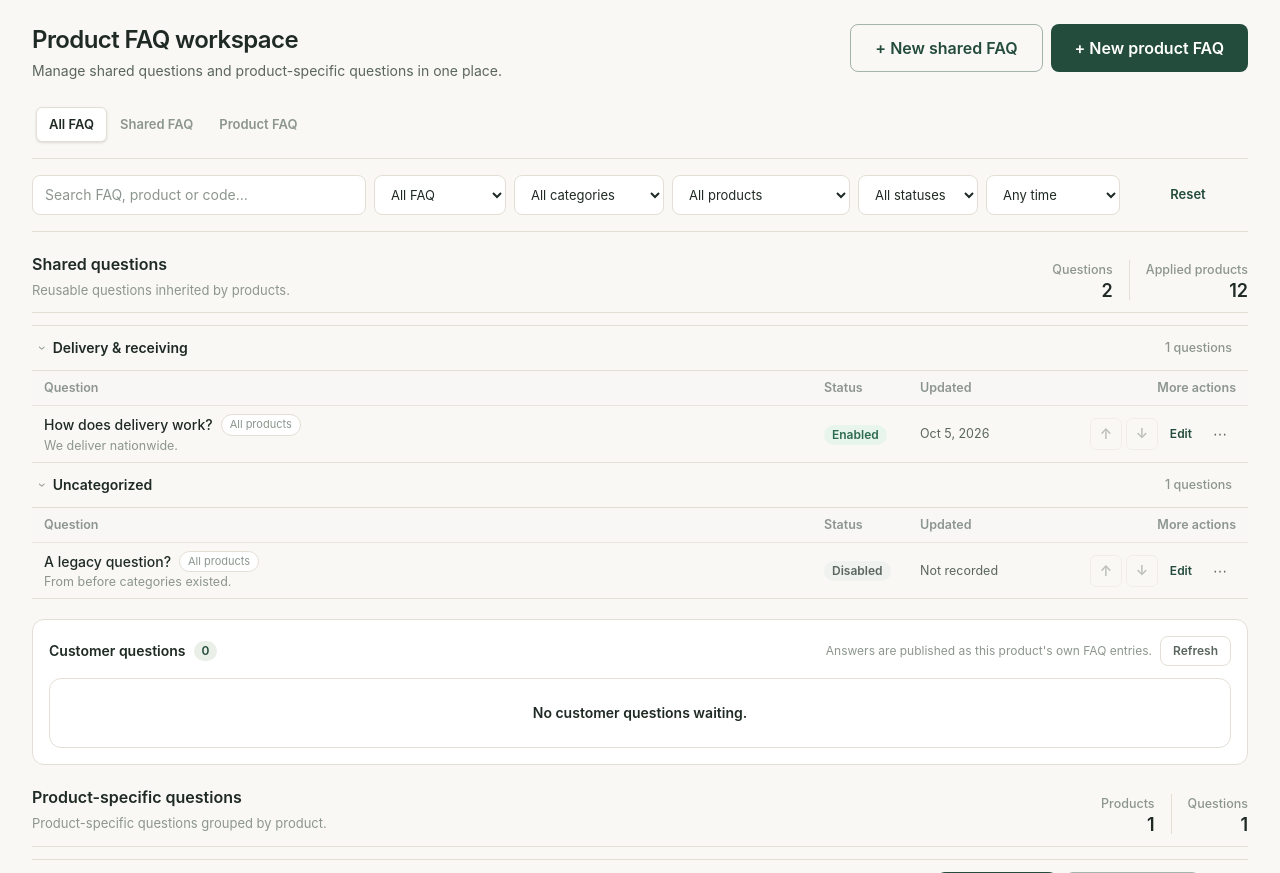
Test: FaqWorkspace › filters shared rows by the search text and re-queries the product list
The width and height of the screenshot is (1280, 873).
Type "delivery" into the search field named "Search questions, answers, product name or code" at (199, 194), box [32, 174, 366, 214]
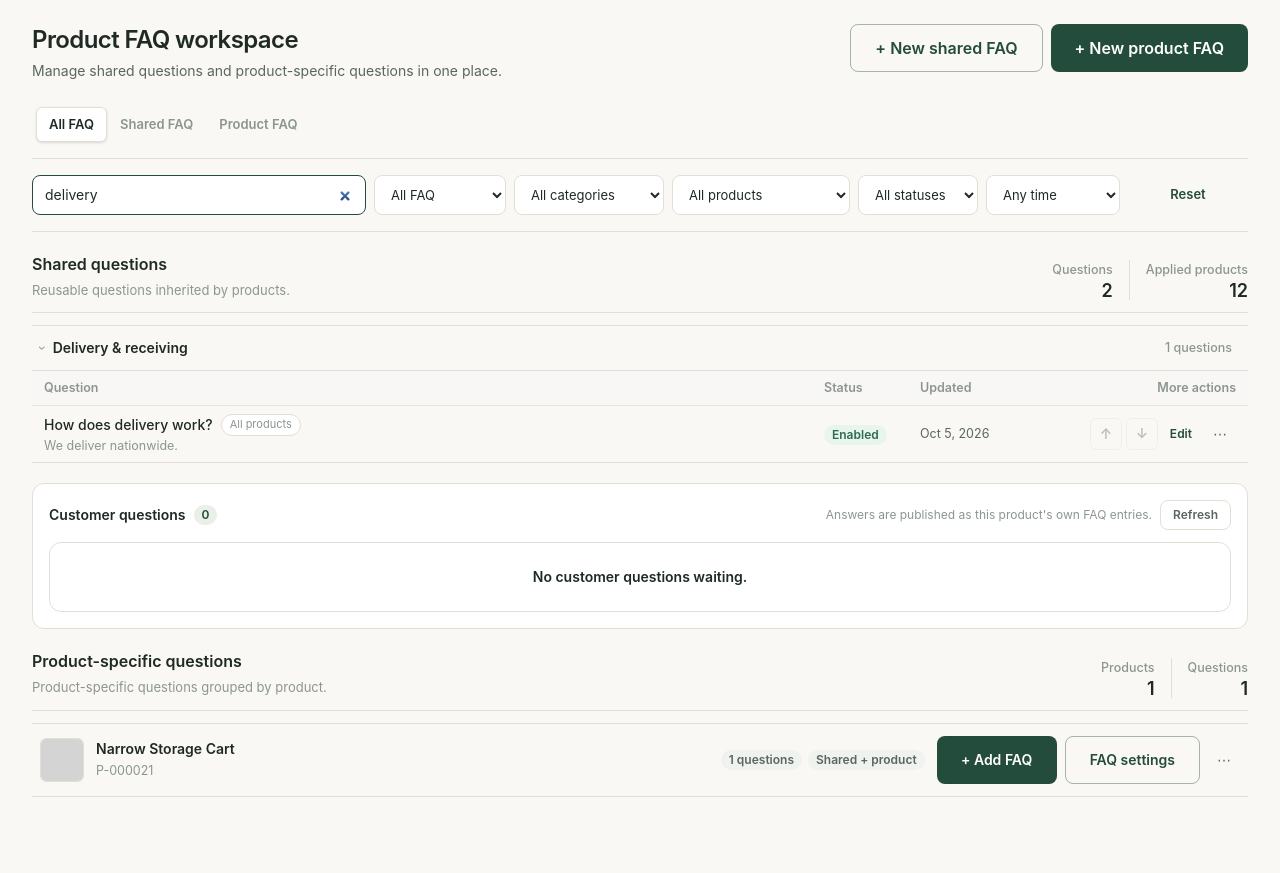
Expected: the text "How does delivery work?" is shown, [44, 415, 213, 435]
Expected: the text "A legacy question?" is gone
